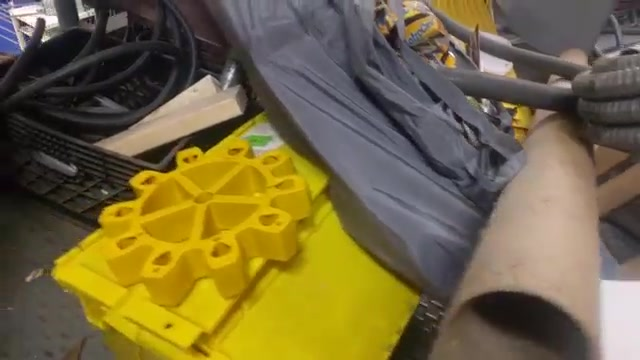gear: (88, 133, 315, 306)
